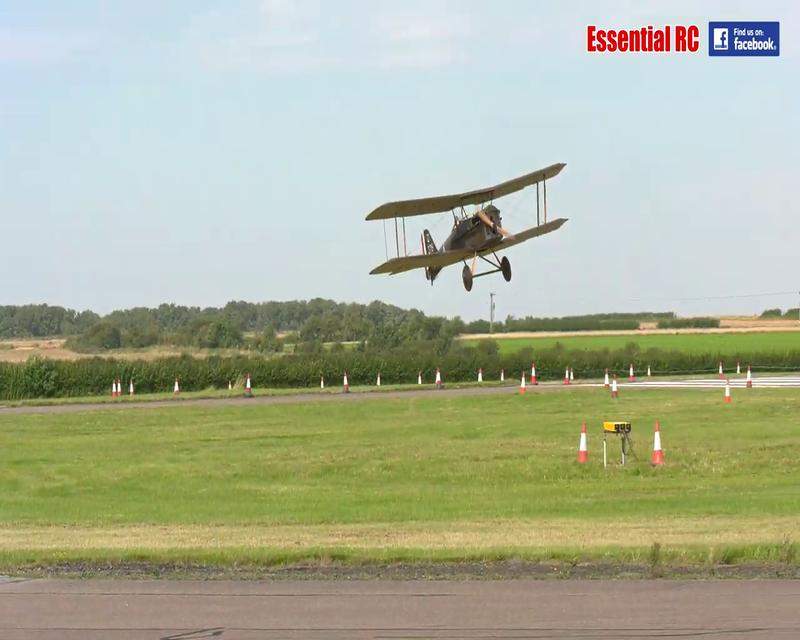UAV: (364, 160, 569, 291)
